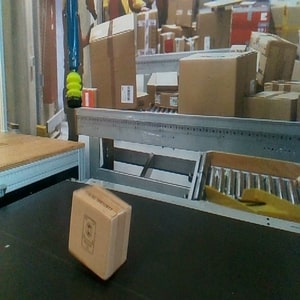box: (68, 183, 133, 281)
